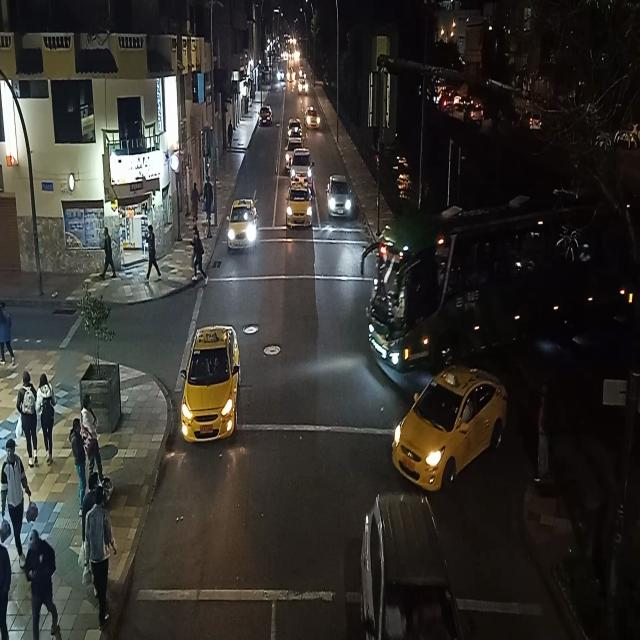BUS: (371, 208, 530, 386)
CMT: (289, 151, 313, 185)
SED: (393, 370, 501, 487), (182, 326, 242, 440)
